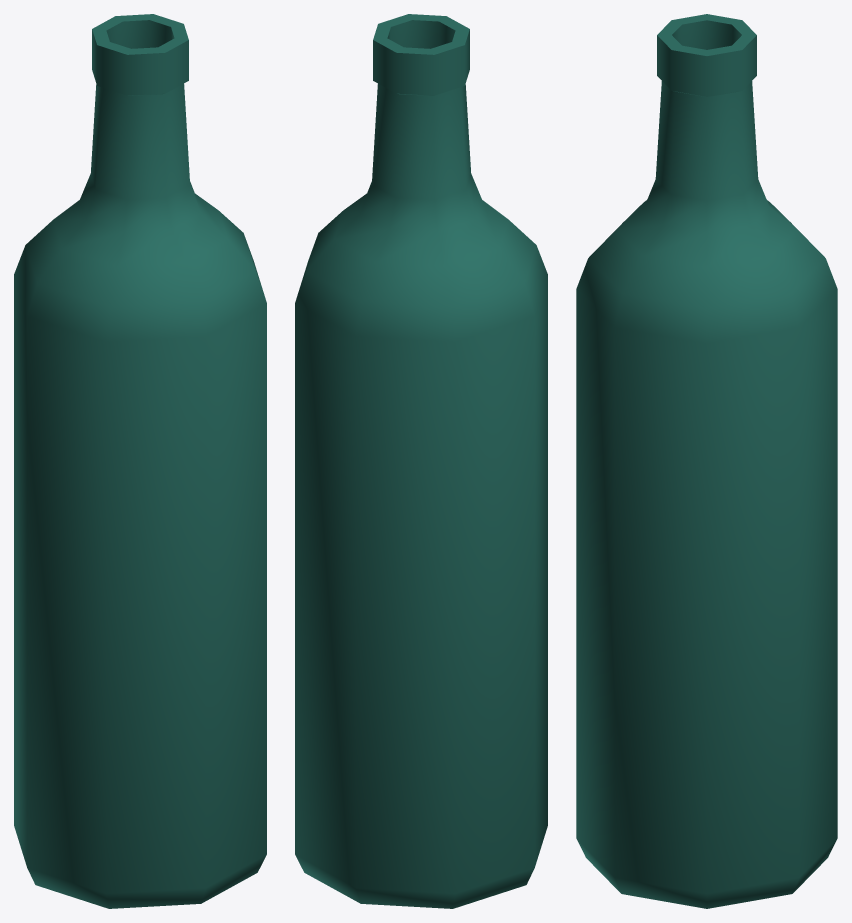
Rendered from SM_glassware_09.fbx.
3 renders of one model, left to right at view 1: azimuth 30°, elevation 25°; view 2: azimuth 150°, elevation 25°; view 3: azimuth 270°, elevation 25°, orthographic.
Parts seen in each view (by area): view 1: glassware_09; view 2: glassware_09; view 3: glassware_09.
Boxes of the visible parts, left/top/right/bottom form: glassware_09: left=14, top=14, right=266, bottom=908; glassware_09: left=295, top=14, right=547, bottom=908; glassware_09: left=576, top=14, right=837, bottom=908.
Bounding box in the file's own units: 16.44 × 57.72 × 16.44.
